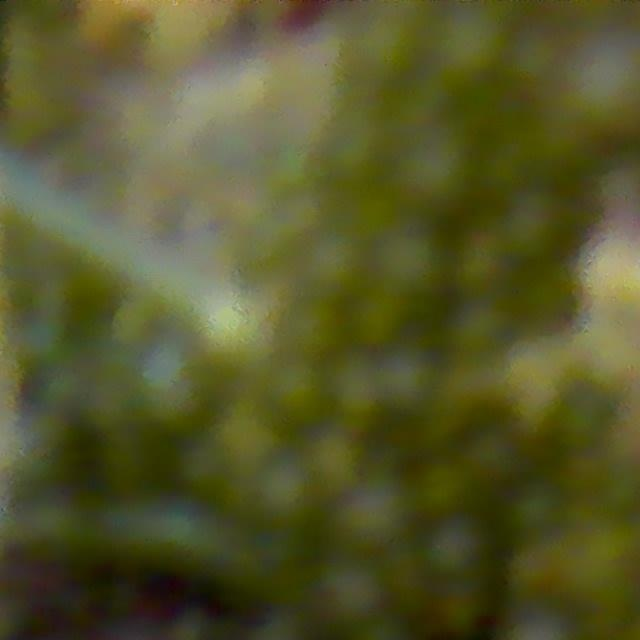SeaGrape: (132, 341, 221, 440), (493, 185, 585, 273), (402, 127, 476, 223), (334, 18, 419, 92), (432, 12, 512, 89), (421, 505, 495, 588), (312, 125, 395, 198), (517, 272, 593, 348), (449, 229, 519, 307), (367, 223, 441, 295), (290, 227, 364, 299), (339, 488, 415, 553), (278, 297, 350, 364), (553, 388, 617, 462), (462, 425, 528, 495), (253, 456, 318, 525), (323, 561, 382, 633), (261, 359, 328, 422), (216, 406, 281, 470), (371, 346, 438, 407), (505, 480, 568, 542), (449, 311, 521, 361), (328, 359, 383, 419), (417, 460, 472, 514), (350, 292, 404, 346), (308, 440, 362, 494), (436, 585, 484, 636)
